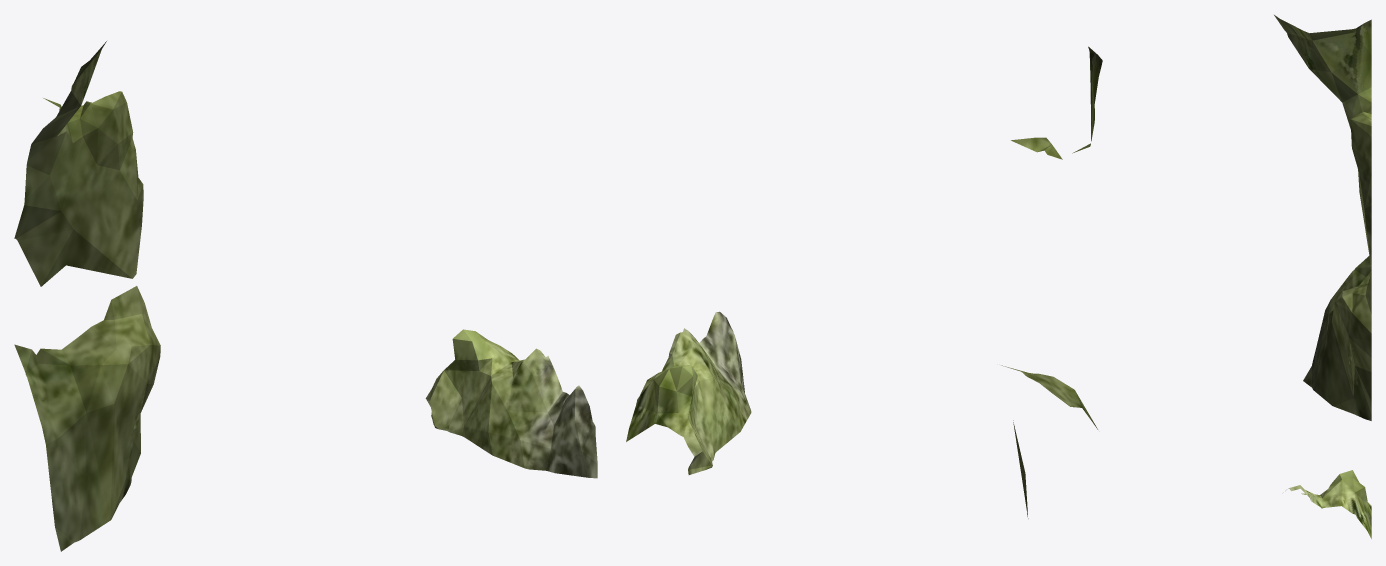
3 renders of one model, left to right at view 1: azimuth 30°, elevation 25°; view 2: azimuth 150°, elevation 25°; view 3: azimuth 270°, elevation 25°, orthographic. The views are drawn at different scales.
Size of the model in its own units: 2.95 by 2.95 by 1.13.
Materials: 1 (1 with a texture image).
